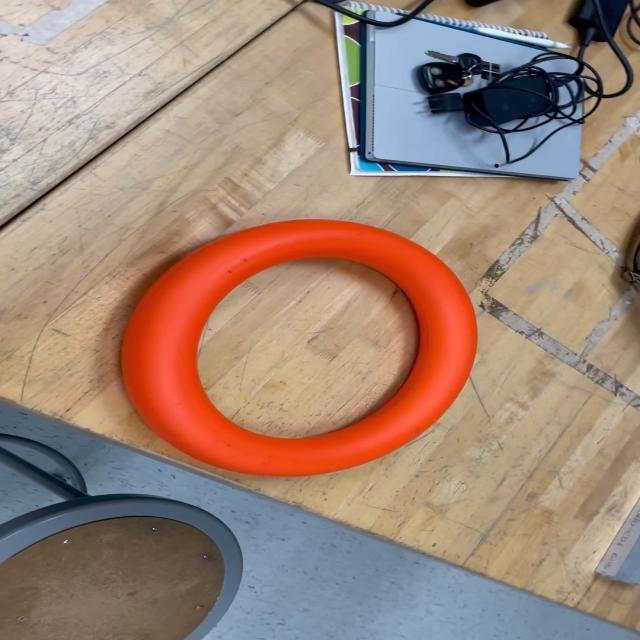note: (120, 218, 479, 480)
